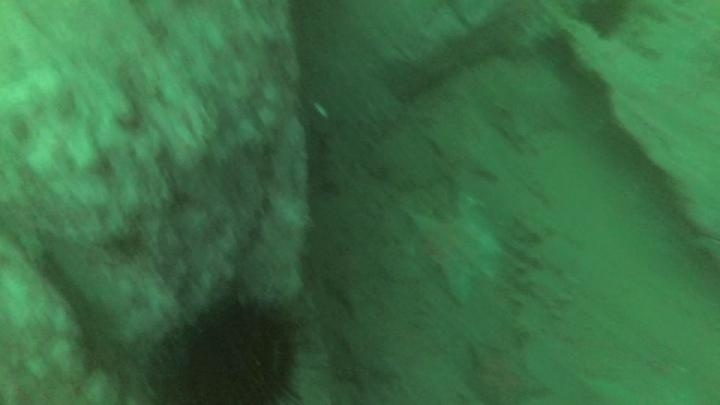echinus: (151, 286, 310, 405), (574, 1, 633, 40)
holothurian: (505, 220, 584, 342)
starfish: (404, 196, 508, 305), (485, 49, 581, 149), (460, 337, 552, 405)
